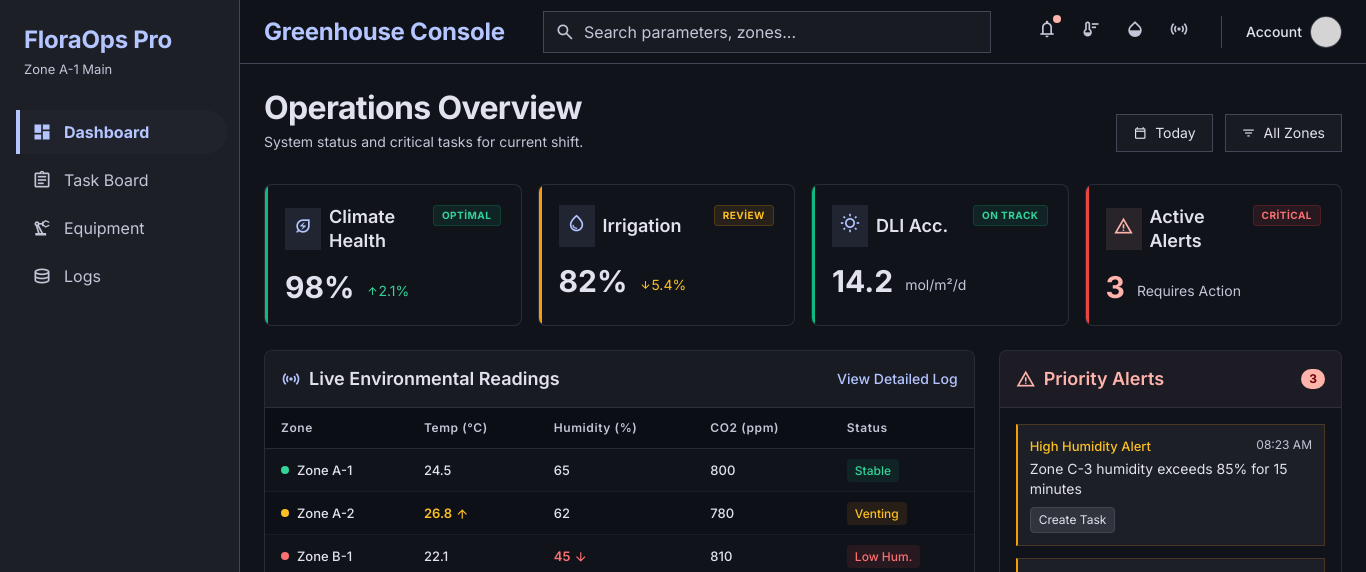
Test: Screen Interactions › opens profile from top bar account button
Click the button "Account". click: (1294, 32)
box: x1=1246 y1=16 x2=1342 y2=48
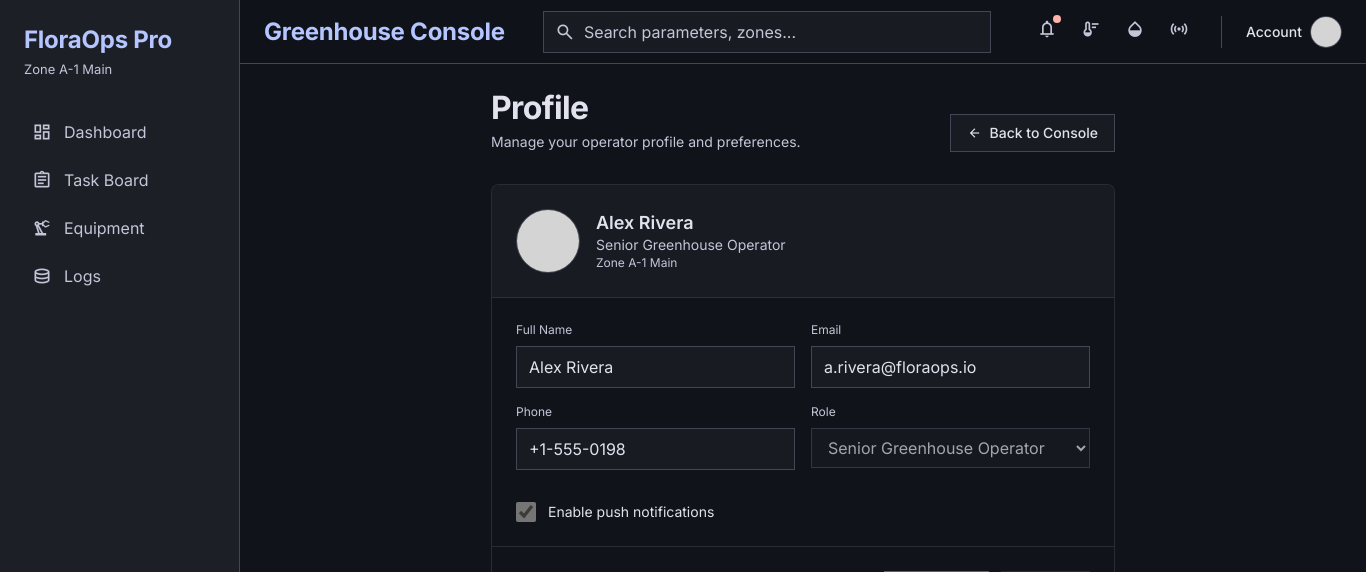
Expected: the heading "Profile" is shown, x1=491 y1=88 x2=588 y2=127
Expected: the heading "Alex Rivera" is shown, x1=596 y1=212 x2=694 y2=233
